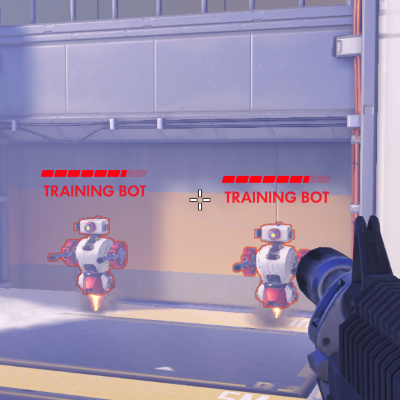hpbar: (221, 175, 331, 184), (40, 170, 147, 178)
